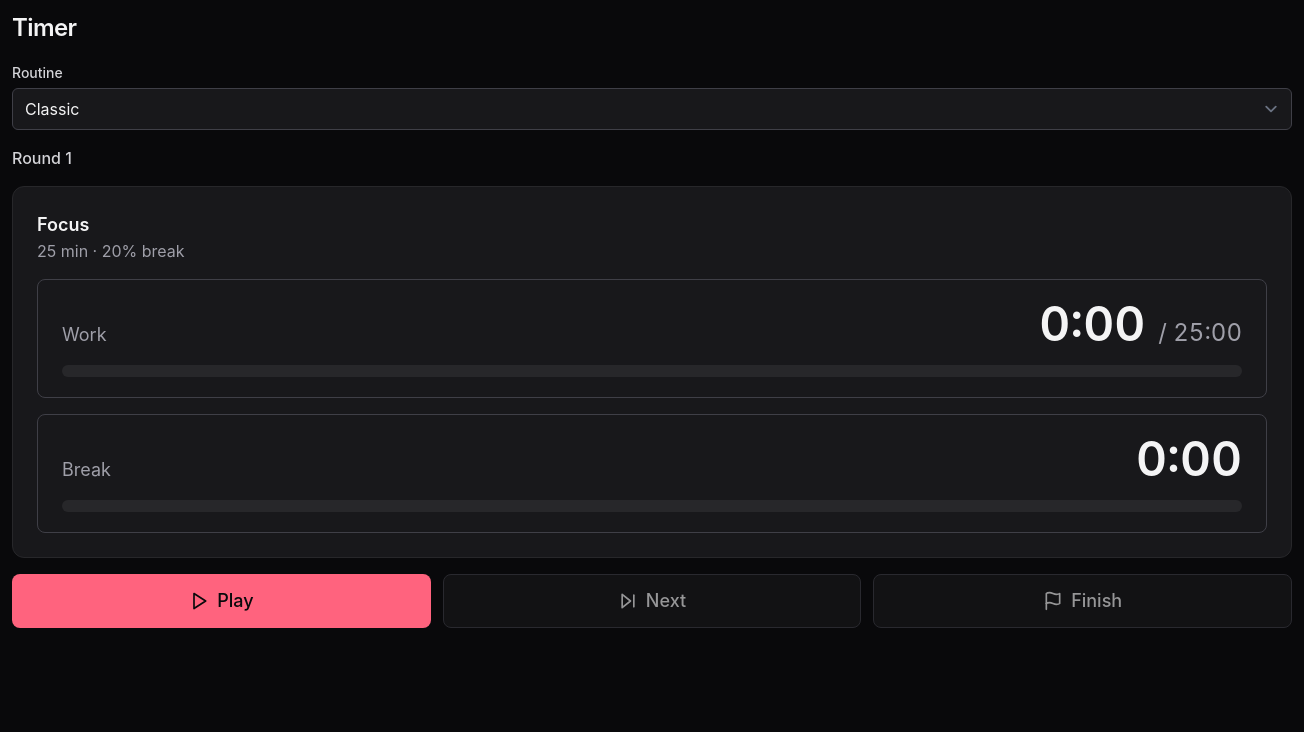
running a routine from the Timer screen › grows the break earned as the work goes on
What coordinates should you click on to do the following:
click the button "Play"
I would click on:
 (221, 601)
Its box is x1=12 y1=574 x2=431 y2=628.
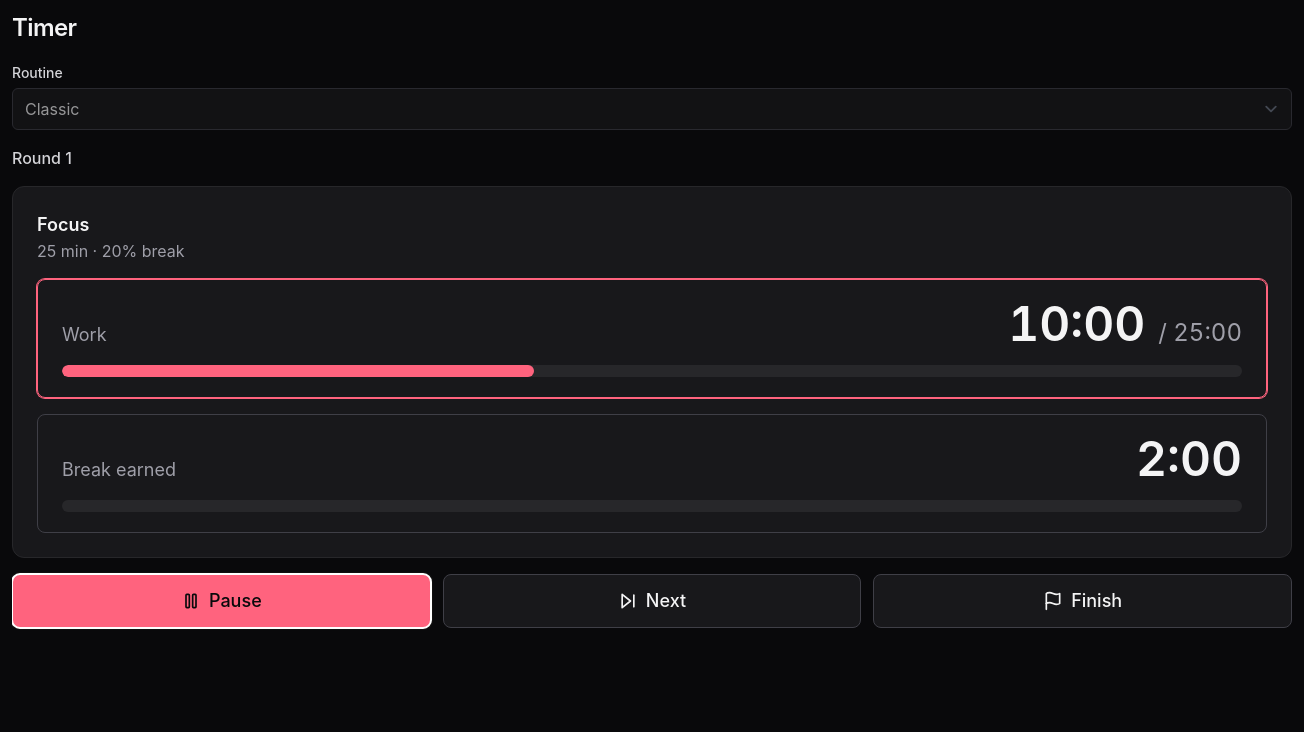
Now the element "Break earned 2:00" is shown, box x1=37 y1=414 x2=1267 y2=533
